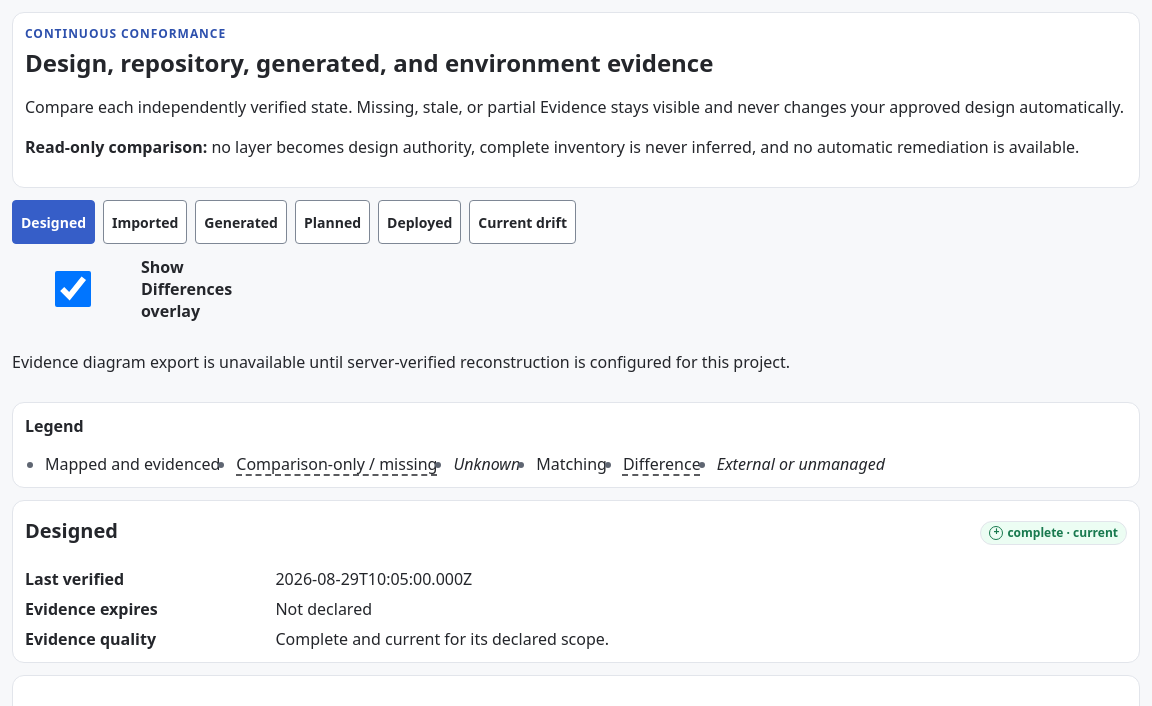
Test: ContinuousConformanceWorkspace › treats an absent layer as unknown rather than empty or matching
What coordinates should you click on to do the following:
click the button "Deployed"
I would click on:
 (420, 222)
Its box is [378, 200, 461, 244].
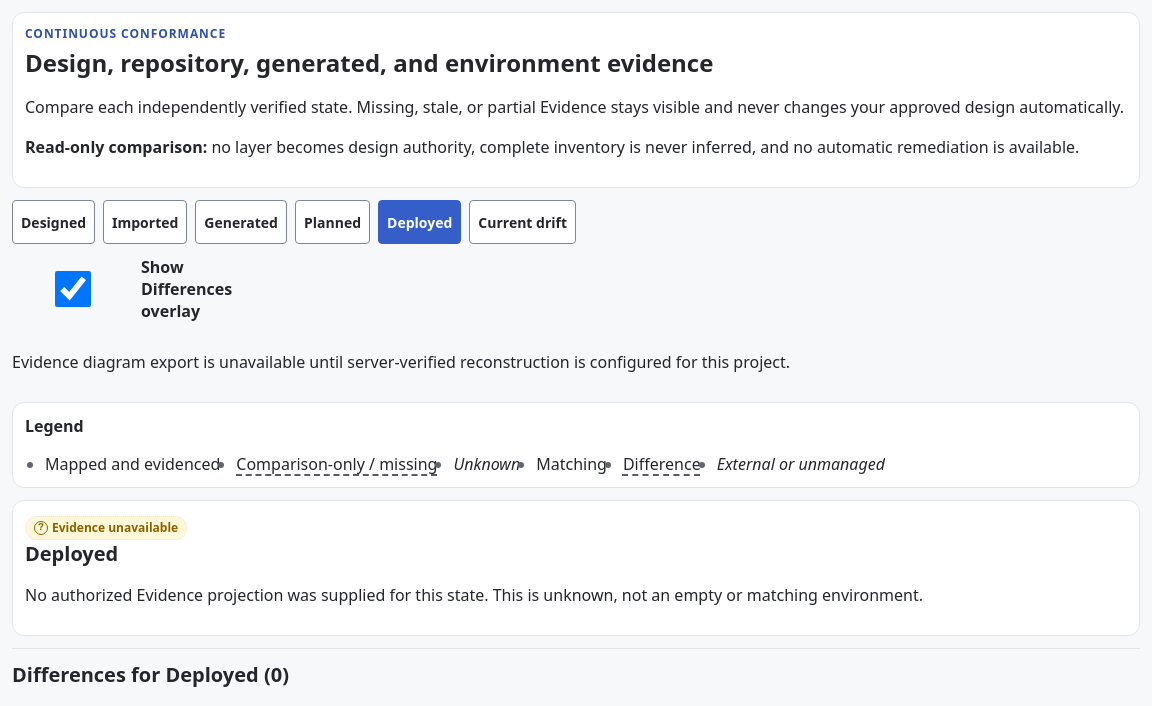
Expected: the text "Evidence unavailable" is shown, [52, 522, 178, 534]
Expected: the text "unknown, not an empty or matching environment" is shown, [493, 584, 923, 606]
